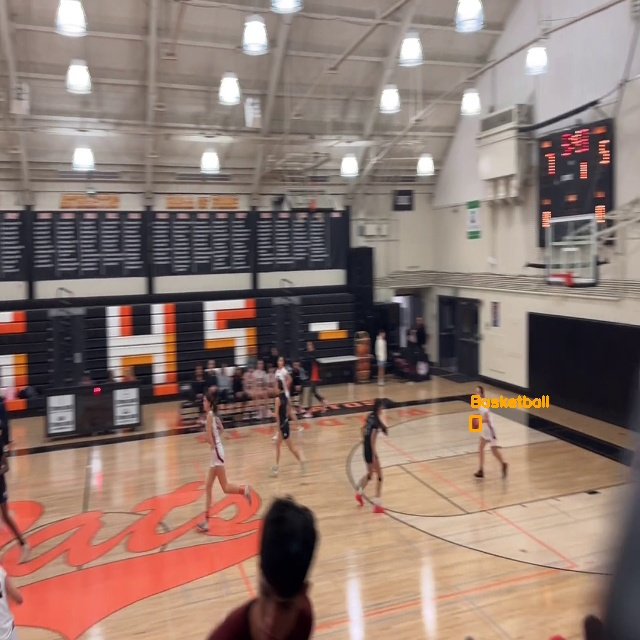Basketball: (470, 416, 480, 430)
